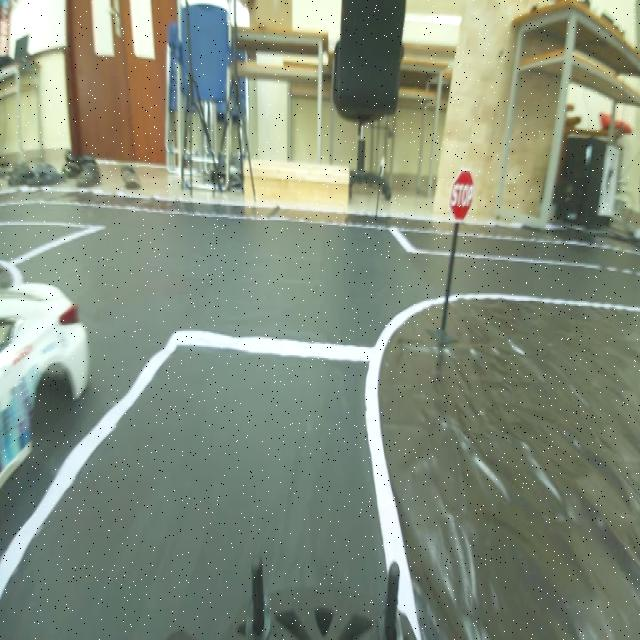car: (1, 244, 92, 475)
stop: (449, 168, 477, 222)
